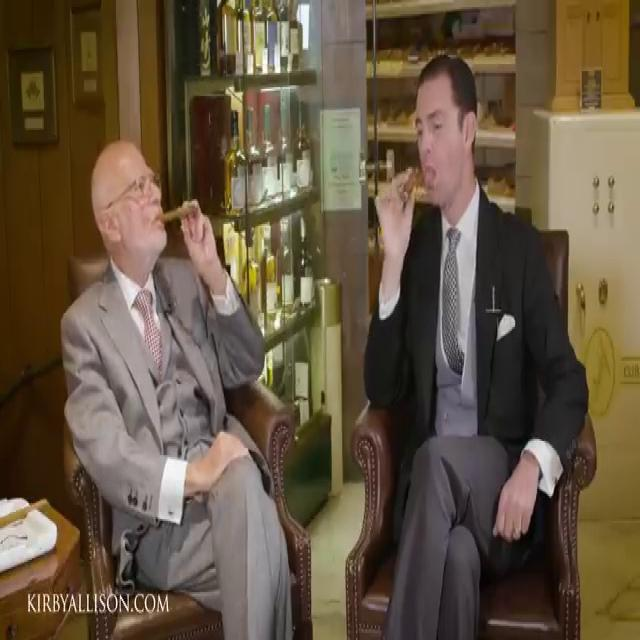Smooking: (400, 159, 420, 212)
